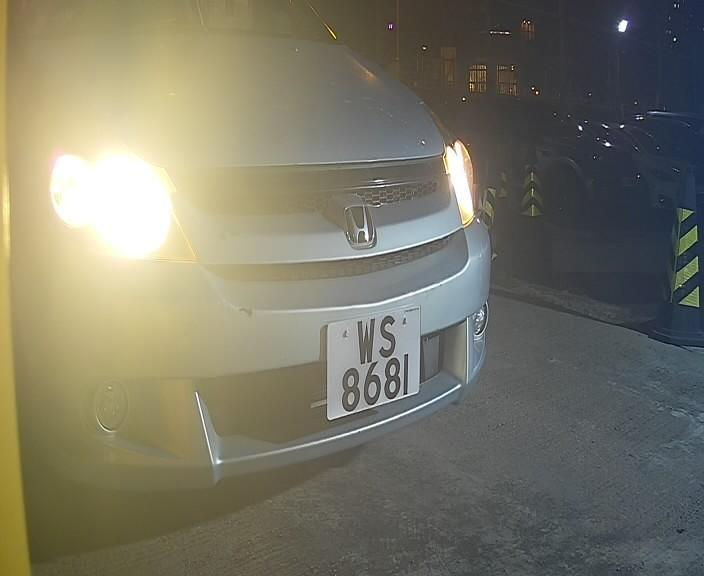Car: (38, 13, 582, 546)
License Plate: (315, 294, 431, 427)
